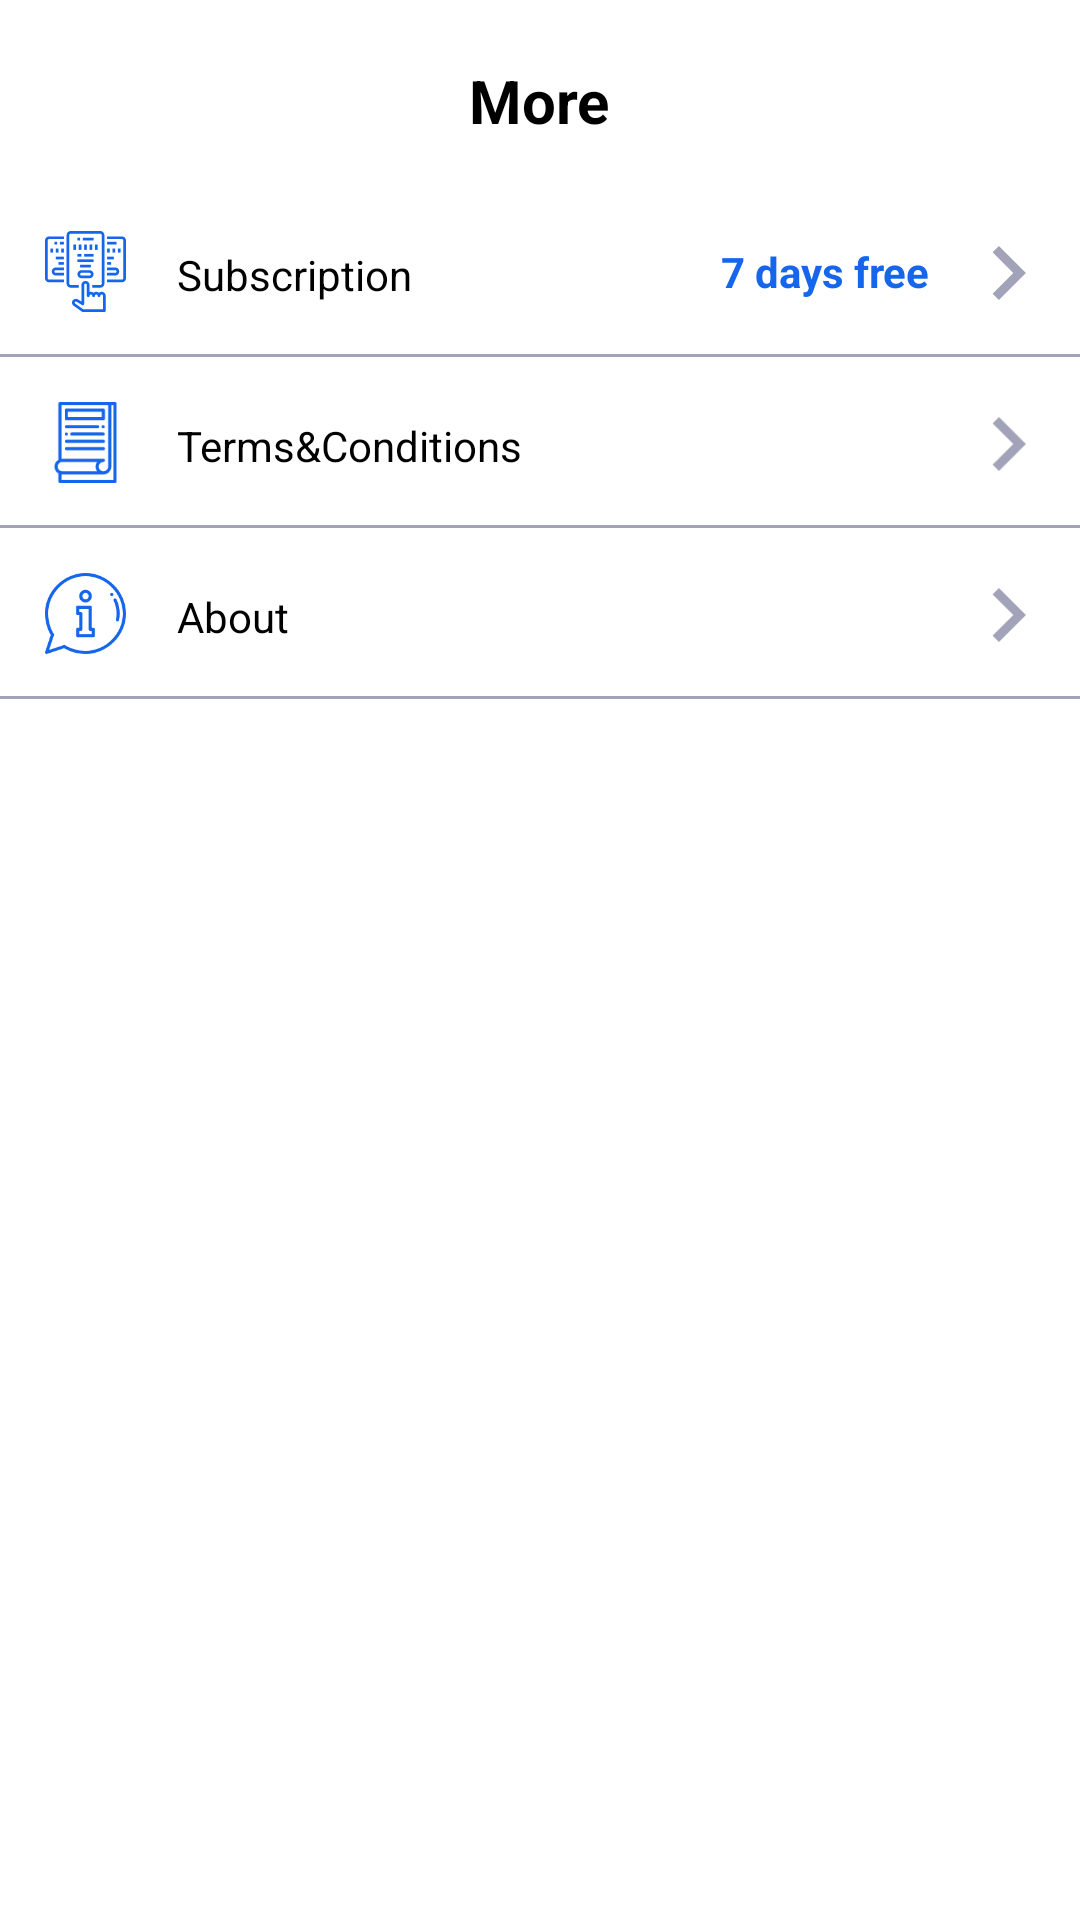

Icons on this 1080×1920 Android screen, each with the point to tap as [x,y]:
right chevron: [1009,273], [1009,444], [1009,615]
